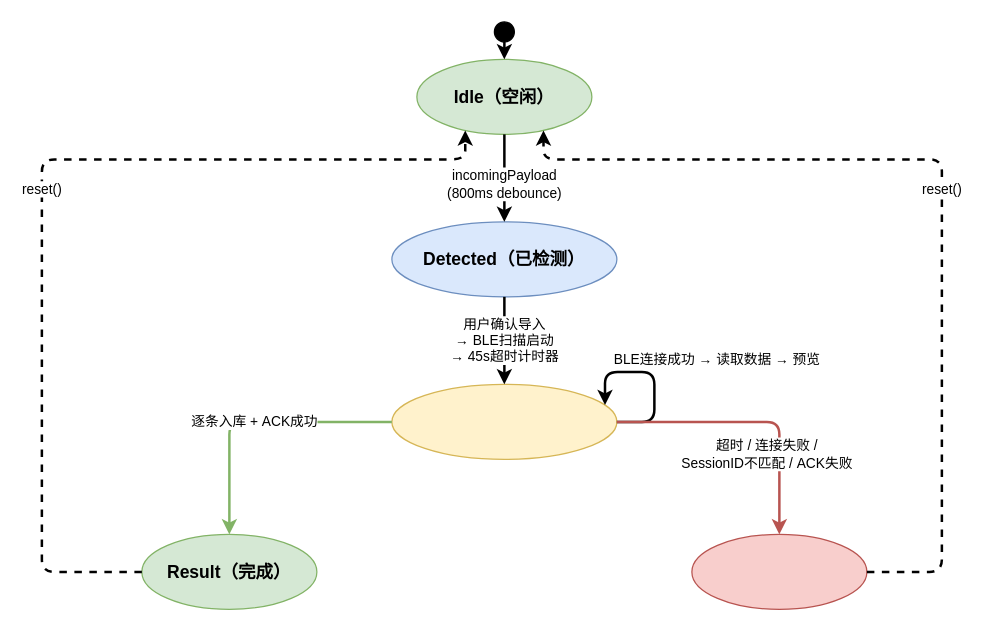
Some shapes in this 983 by 631 pixel diagram are drawn without their labels. Here are the shapes that lost their labels. From the top down, the box of each, then its label:
(391, 383, 617, 459): Importing（导入中）
(691, 533, 867, 609): Error（错误）
